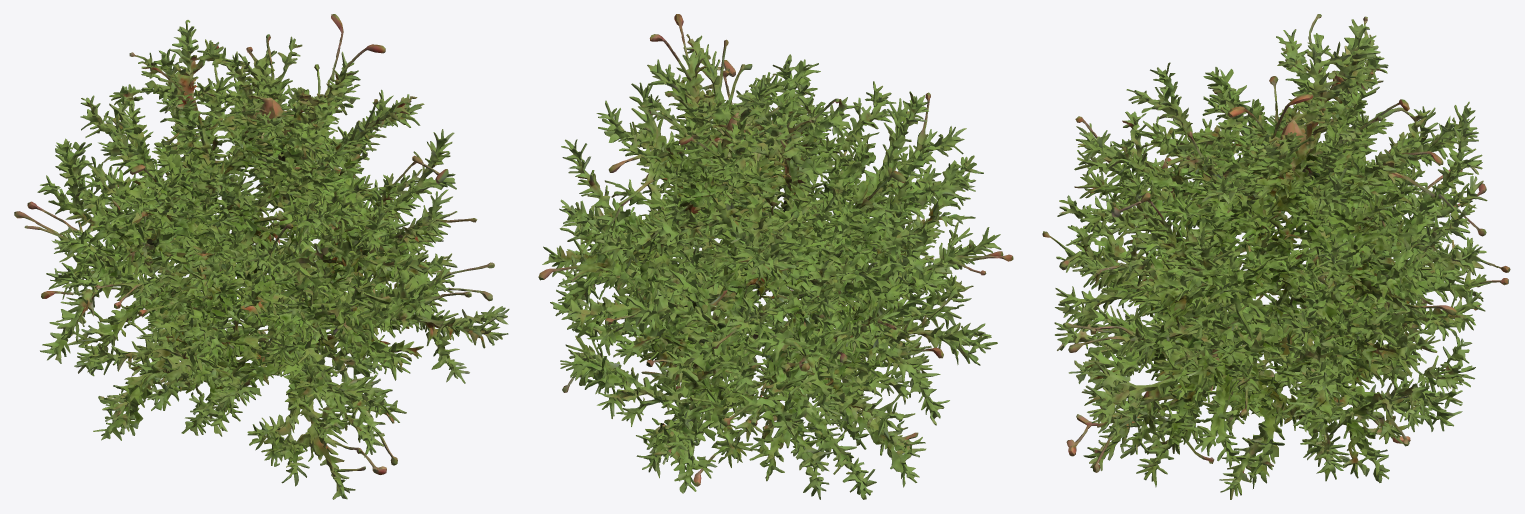
The model's file is moss-sprig-v8.glb.
3 views of the same model, side by side, from view 1: azimuth 30°, elevation 25°; view 2: azimuth 150°, elevation 25°; view 3: azimuth 270°, elevation 25° (orthographic). The views are drawn at different scales.
Visible parts, largest first — view 1: geometry_0; view 2: geometry_0; view 3: geometry_0.
Boxes of the visible parts, x1,y1,x2,y2 form: geometry_0: (14, 14, 509, 499); geometry_0: (538, 14, 1013, 499); geometry_0: (1042, 14, 1510, 499).
Size of the model in its own units: 0.25 by 0.2515 by 0.2512.
1 material, 1 textured.
